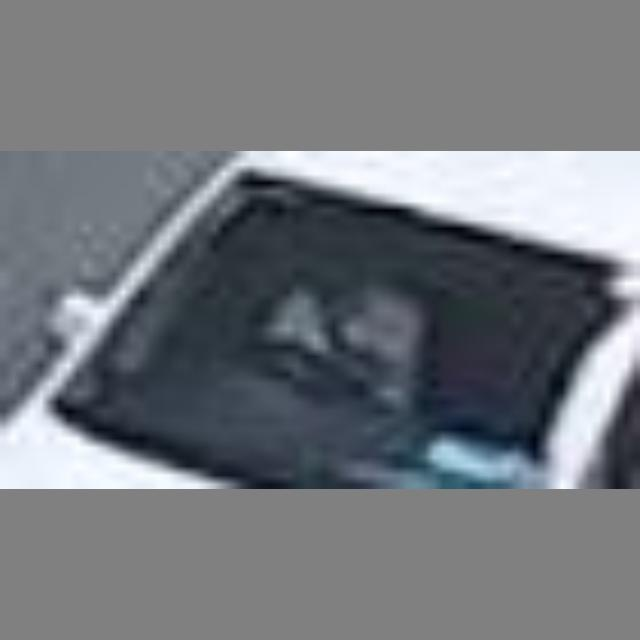pakai: (229, 233, 411, 407)
